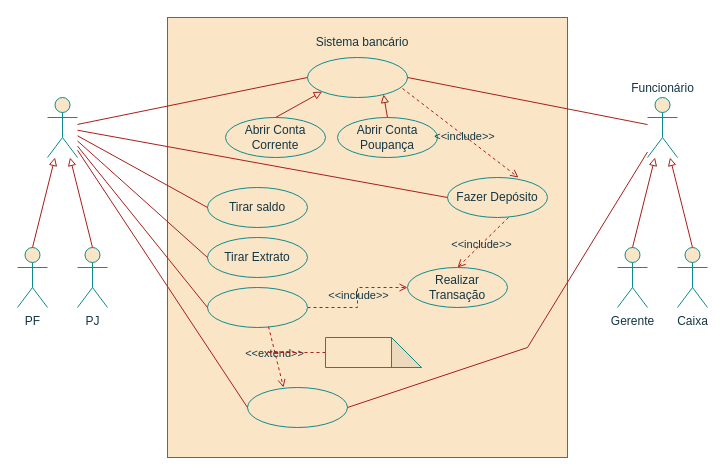
The diagram is 725 pixels wide and 475 high, and some of its shapes have lost their labels. The centre of each missing label's shape, as x and y in pixels:
Abrir Conta: [357,77]
Cliente: [62,127]
Encerrar Conta: [297,407]
Fazer Saque: [257,307]
Se houver saldo: [373,352]
